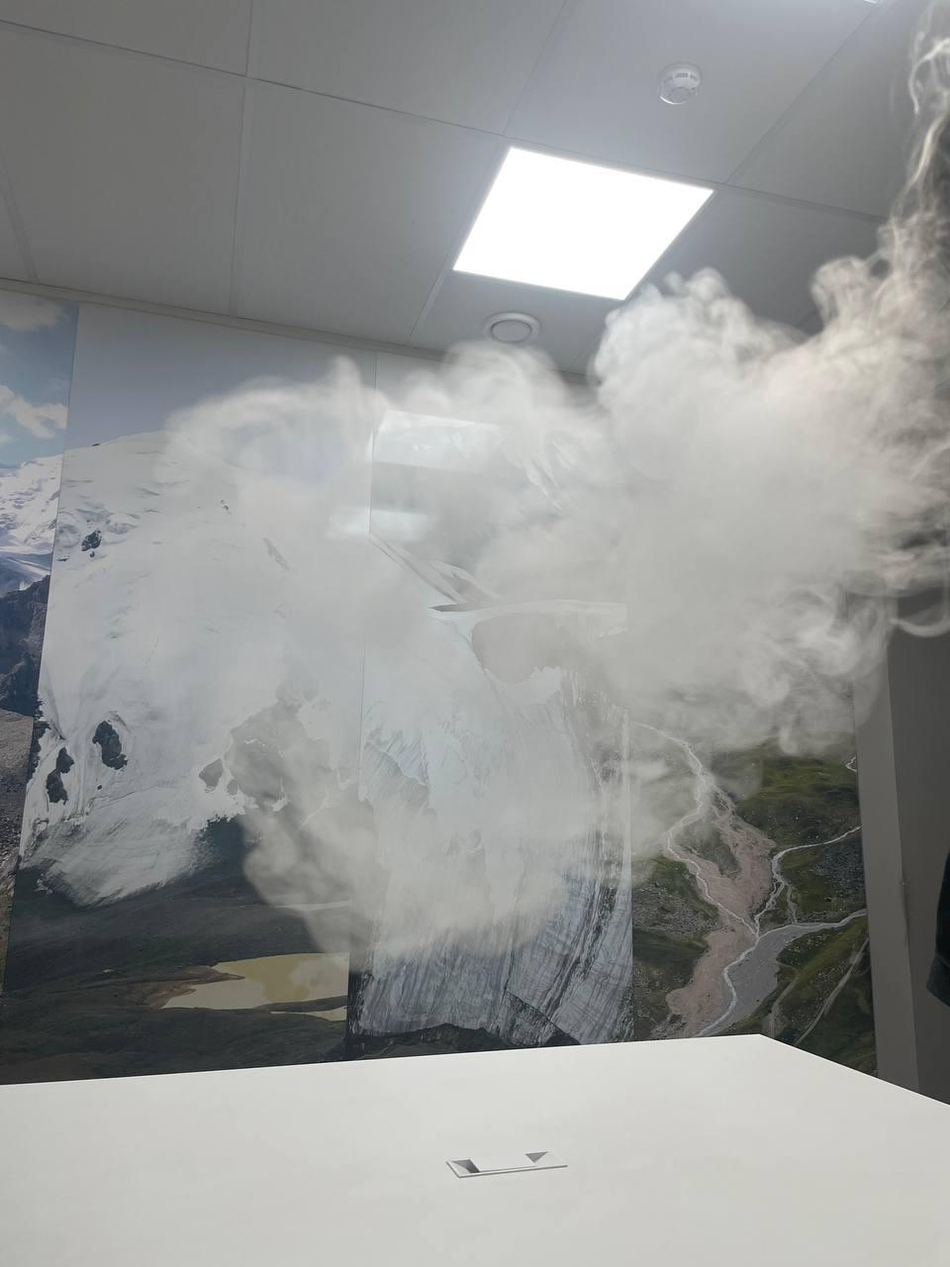smoke: (62, 179, 950, 981)
